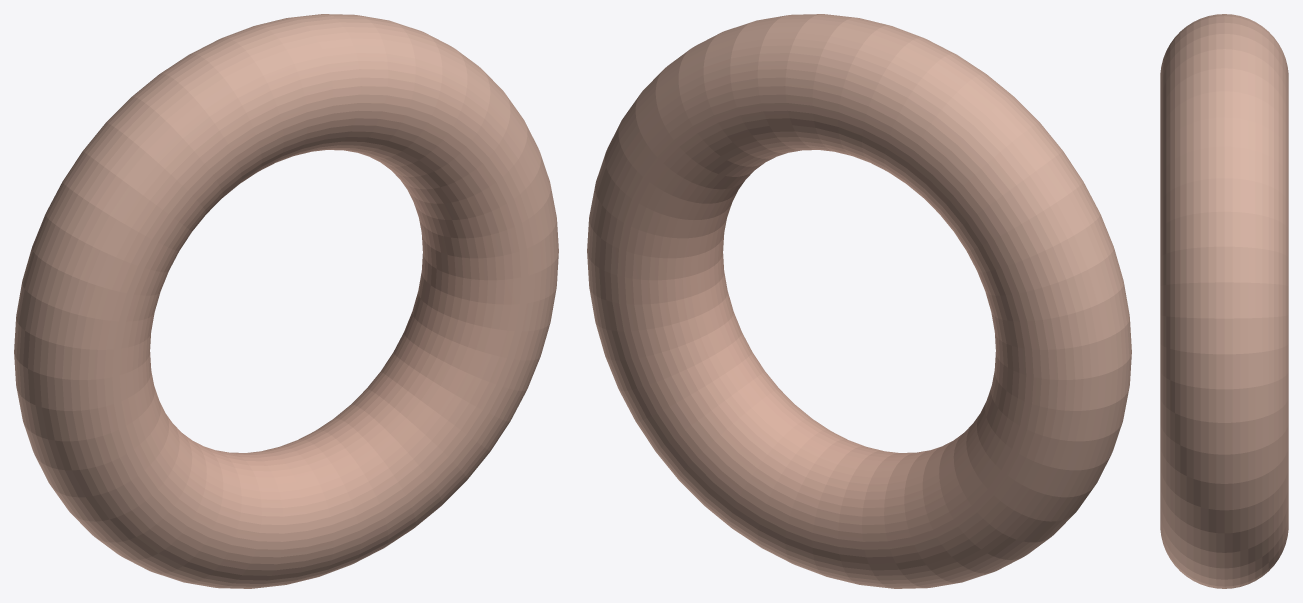
3 views of the same model, side by side, from view 1: azimuth 30°, elevation 25°; view 2: azimuth 150°, elevation 25°; view 3: azimuth 270°, elevation 25° (orthographic). The views are drawn at different scales.
Parts seen in each view (by area): view 1: world; view 2: world; view 3: world.
Boxes of the visible parts, x1,y1,x2,y2 form: world: (14,14,558,588); world: (587,14,1131,588); world: (1160,14,1288,588).
Size of the model in its own units: 29.2 by 29.14 by 6.52.
